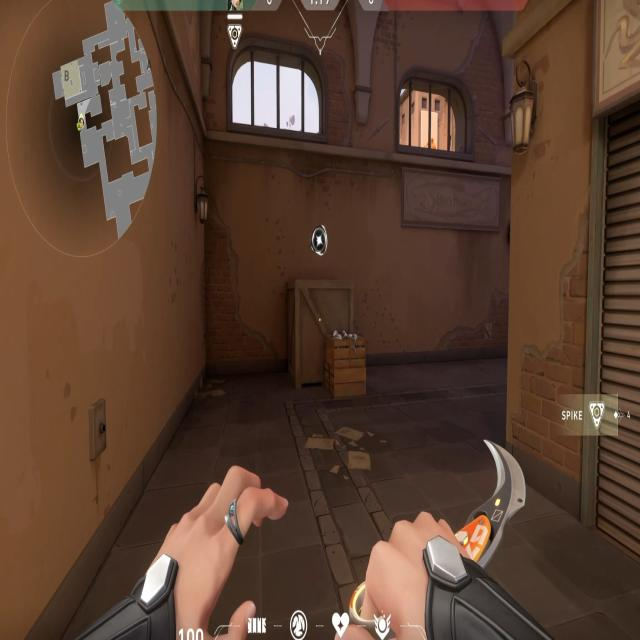B_Main_Wallbang: (280, 206, 372, 423)
Throwables: (212, 28, 330, 147), (391, 64, 478, 168)
